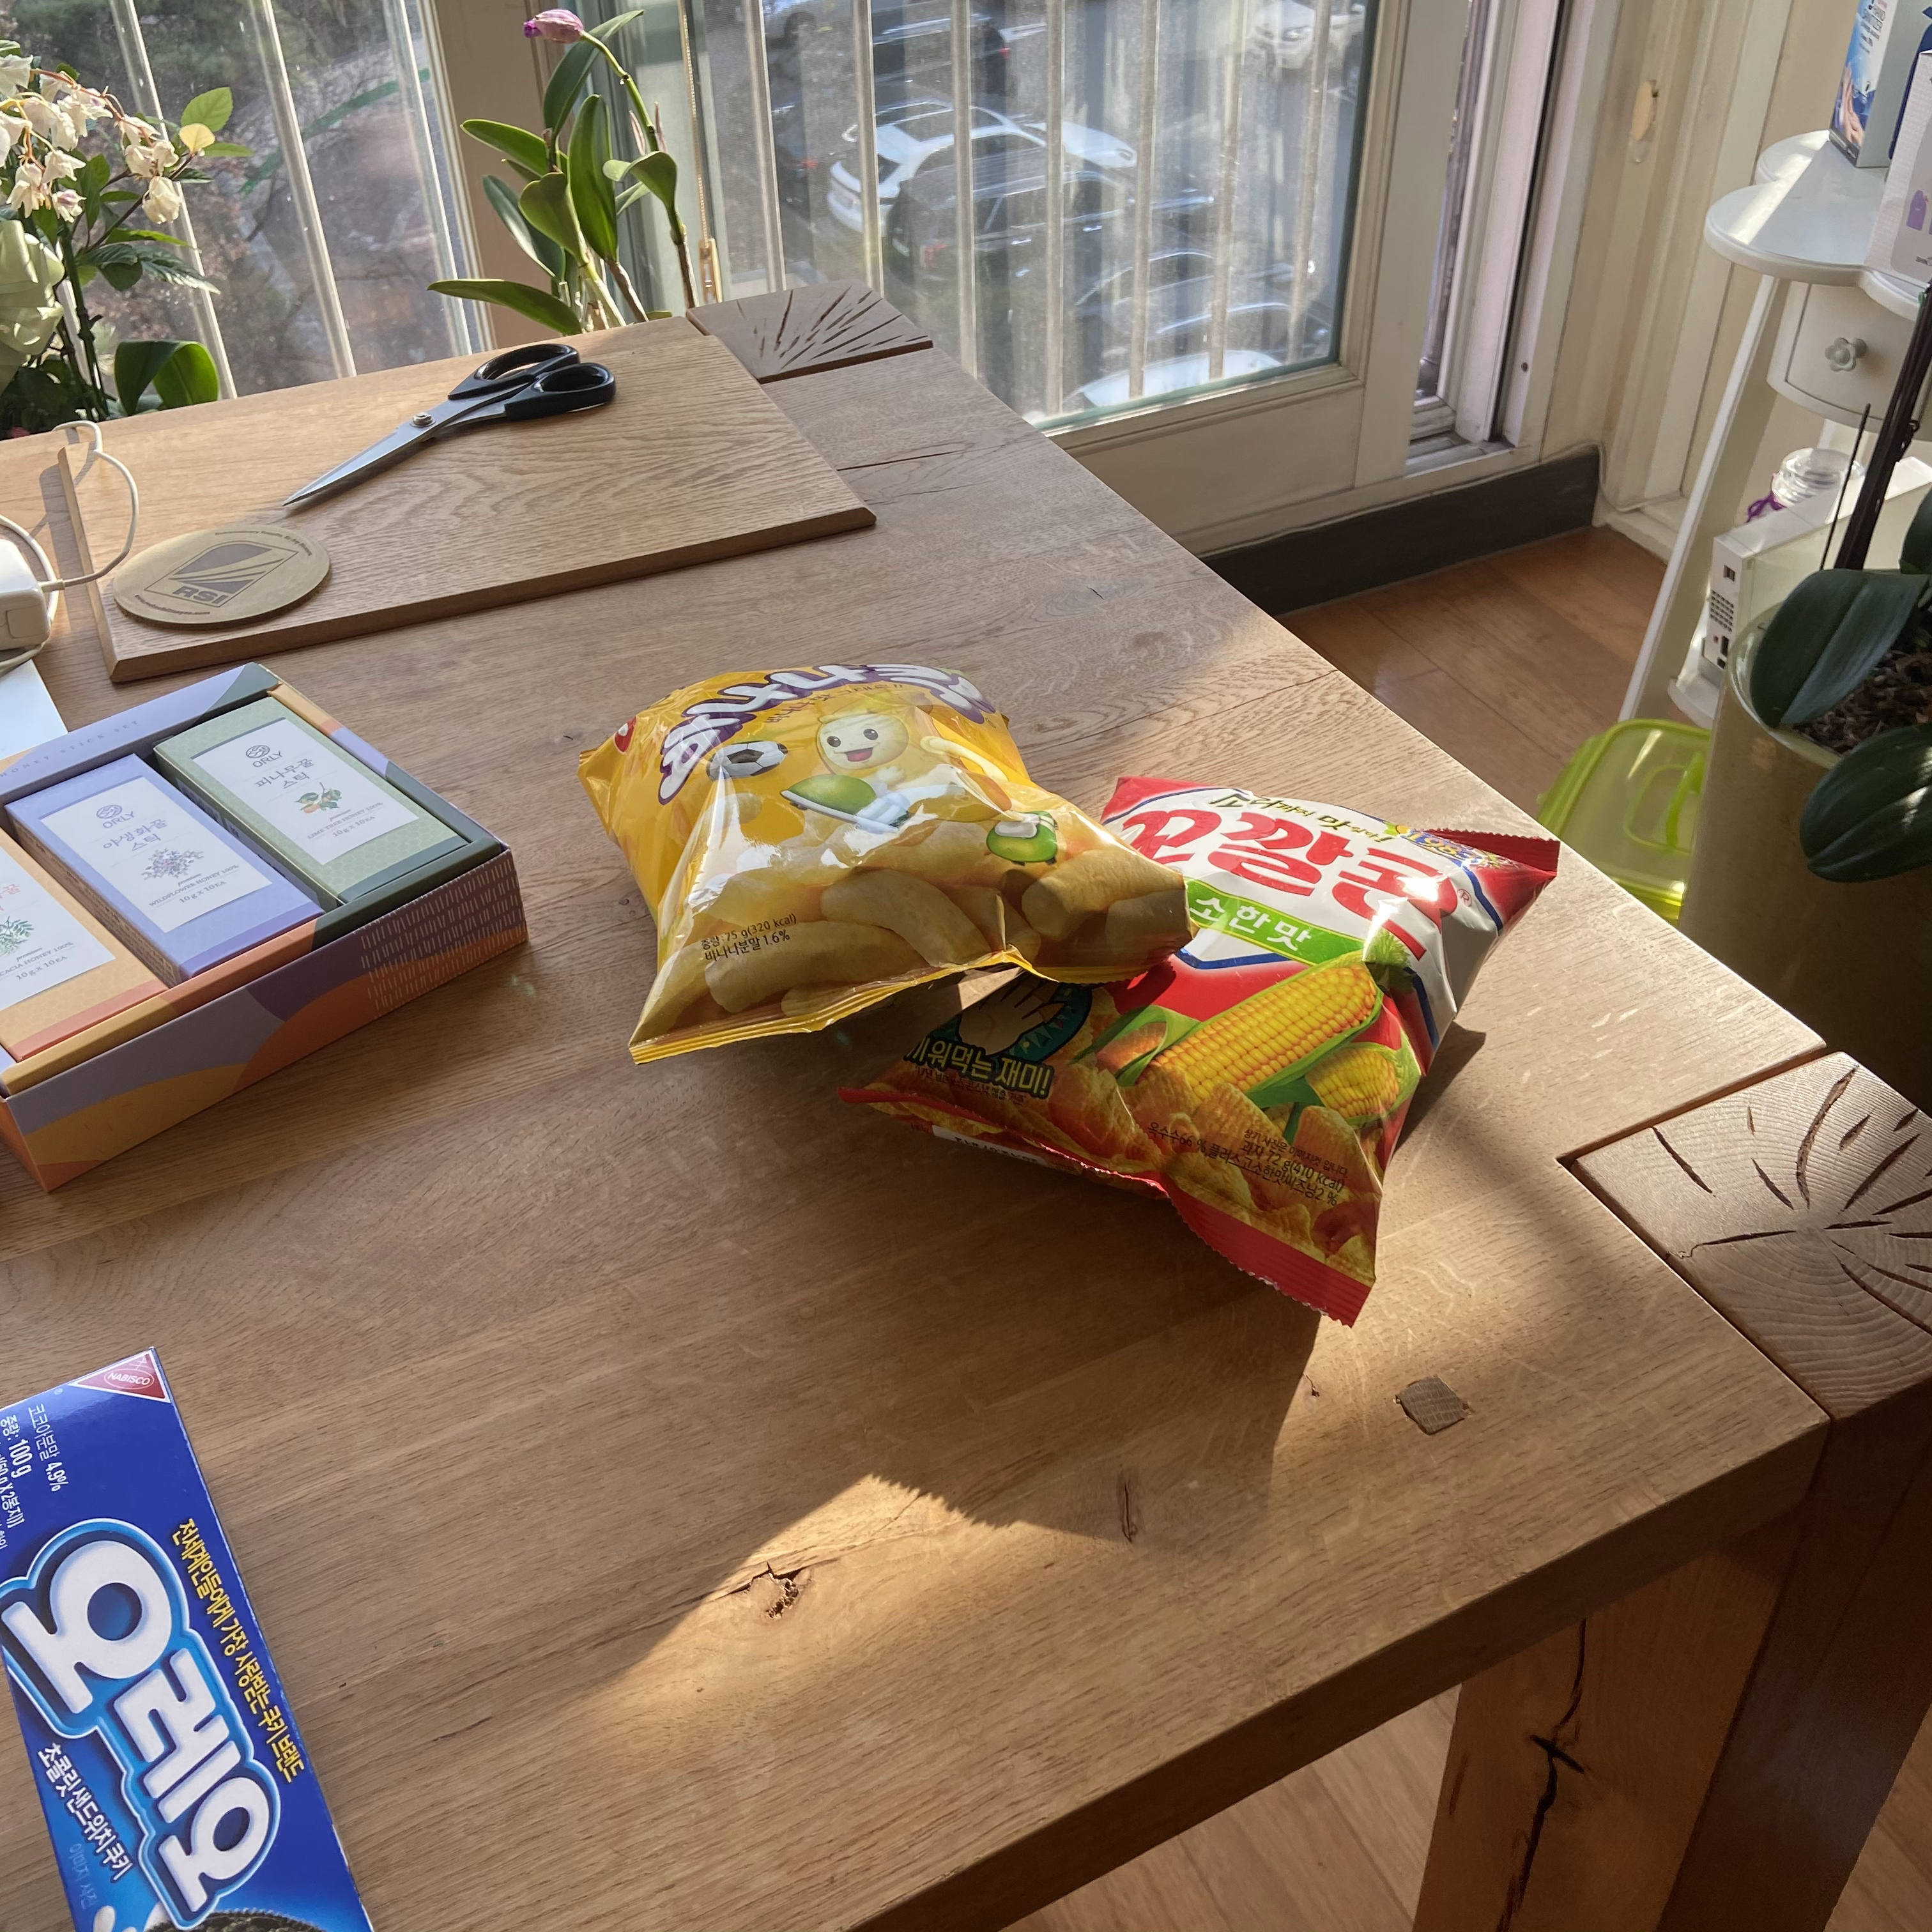banana: (575, 642, 1214, 1088)
ggoggalcon: (826, 764, 1580, 1345)
